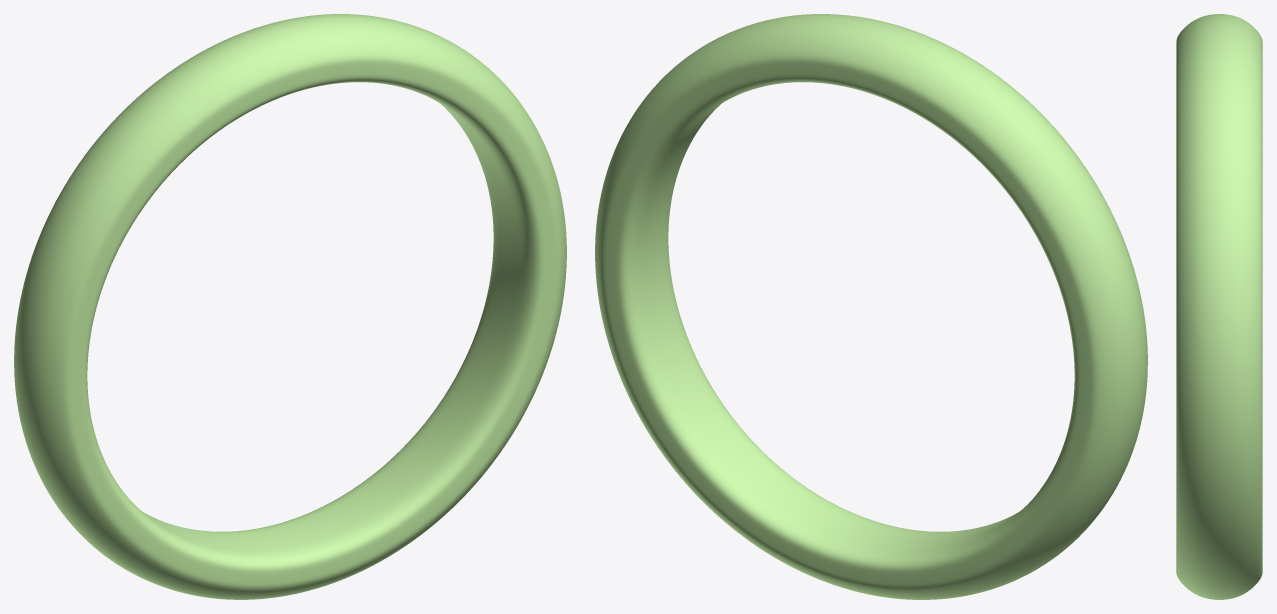
Rendered from BE2FM07_RENDER.glb.
3 renders of one model, left to right at view 1: azimuth 30°, elevation 25°; view 2: azimuth 150°, elevation 25°; view 3: azimuth 270°, elevation 25°, orthographic. The views are drawn at different scales.
Parts seen in each view (by area): view 1: Metal03; view 2: Metal03; view 3: Metal03.
Part boxes in pixels (bbox=[...]): Metal03: bbox=[14, 14, 566, 599]; Metal03: bbox=[595, 14, 1147, 599]; Metal03: bbox=[1176, 14, 1262, 599].
Bounding box in the file's own units: 20.3 × 20.3 × 3.
